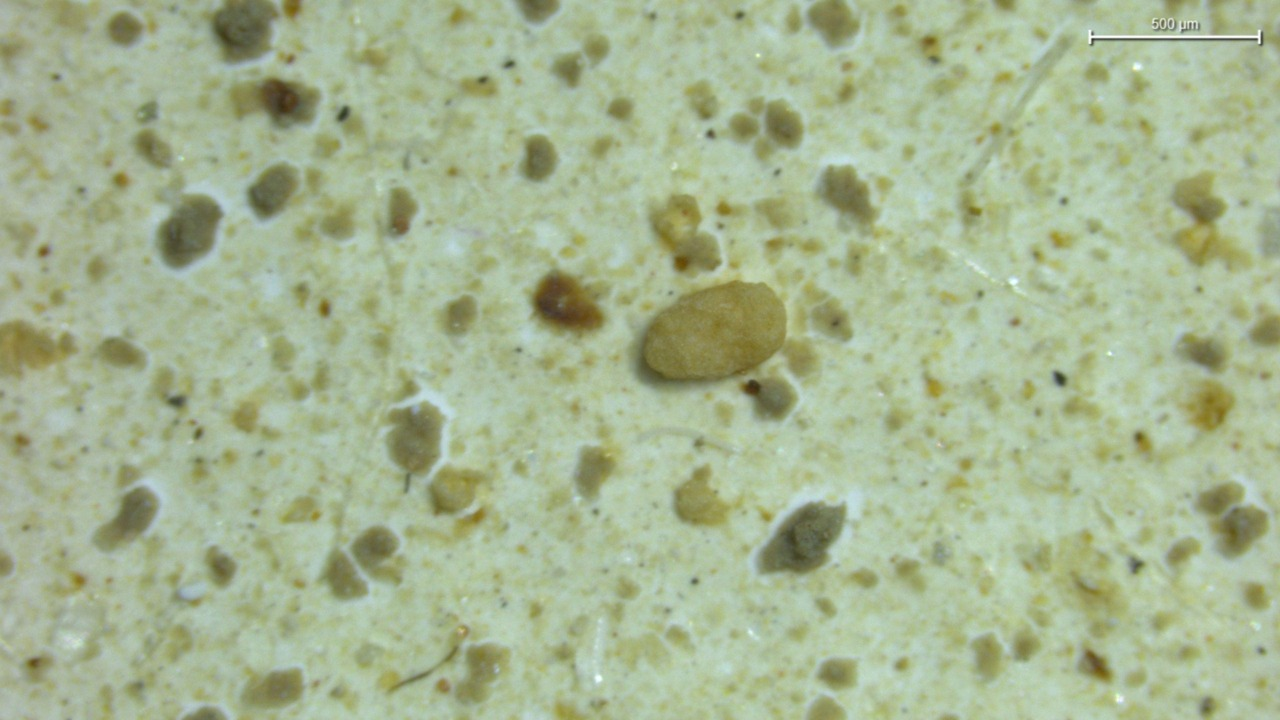microplastic_fragment: (643, 281, 786, 380)
